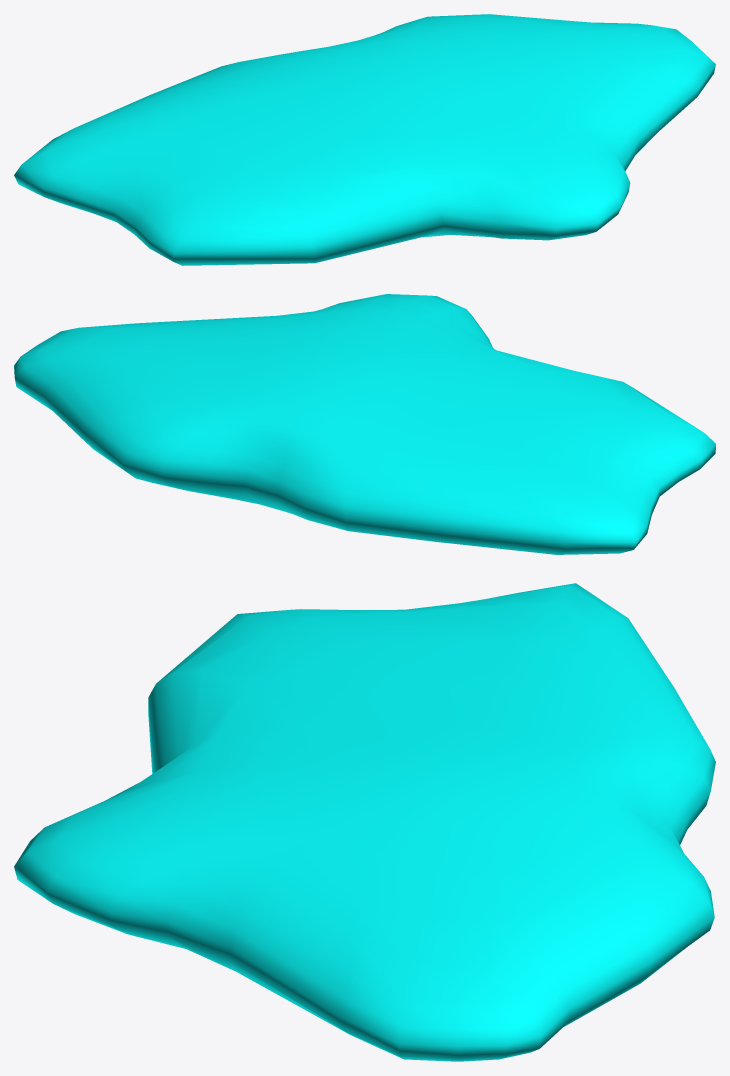
Rendered from mouthwash.glb.
3 renders of one model, top to bottom at view 1: azimuth 30°, elevation 25°; view 2: azimuth 150°, elevation 25°; view 3: azimuth 270°, elevation 25°, orthographic. The views are drawn at different scales.
Visible parts, largest first — view 1: Sphere.001; view 2: Sphere.001; view 3: Sphere.001.
Part boxes in pixels (<box>): Sphere.001: <box>14,14,715,265</box>; Sphere.001: <box>14,294,715,554</box>; Sphere.001: <box>14,583,715,1061</box>.
Bounding box in the file's own units: 5.21 × 0.75 × 3.4.
